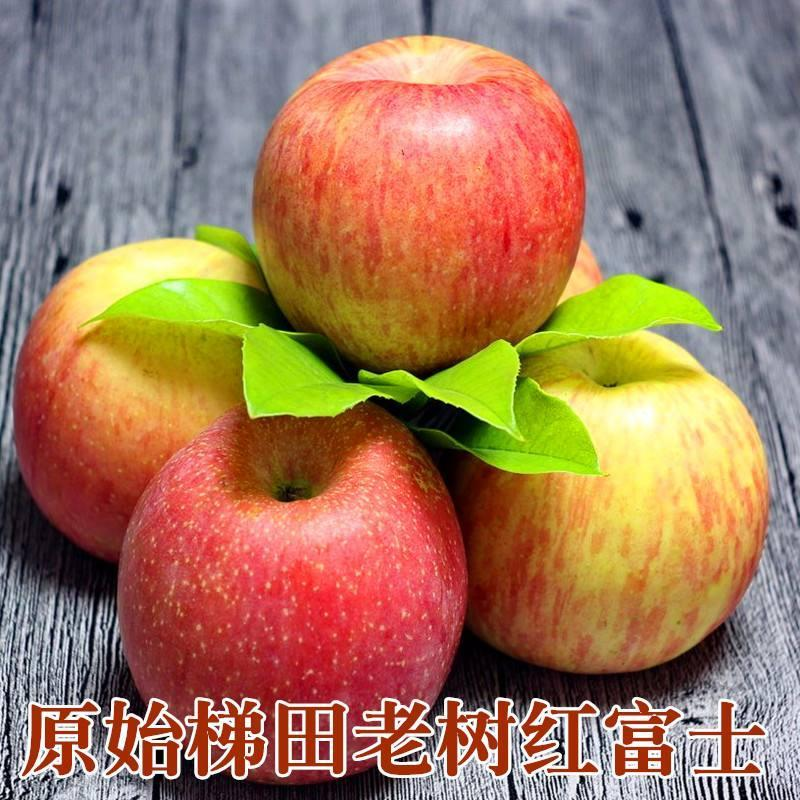apple: (113, 415, 479, 751), (253, 31, 588, 373), (435, 346, 768, 684), (4, 241, 311, 568)
